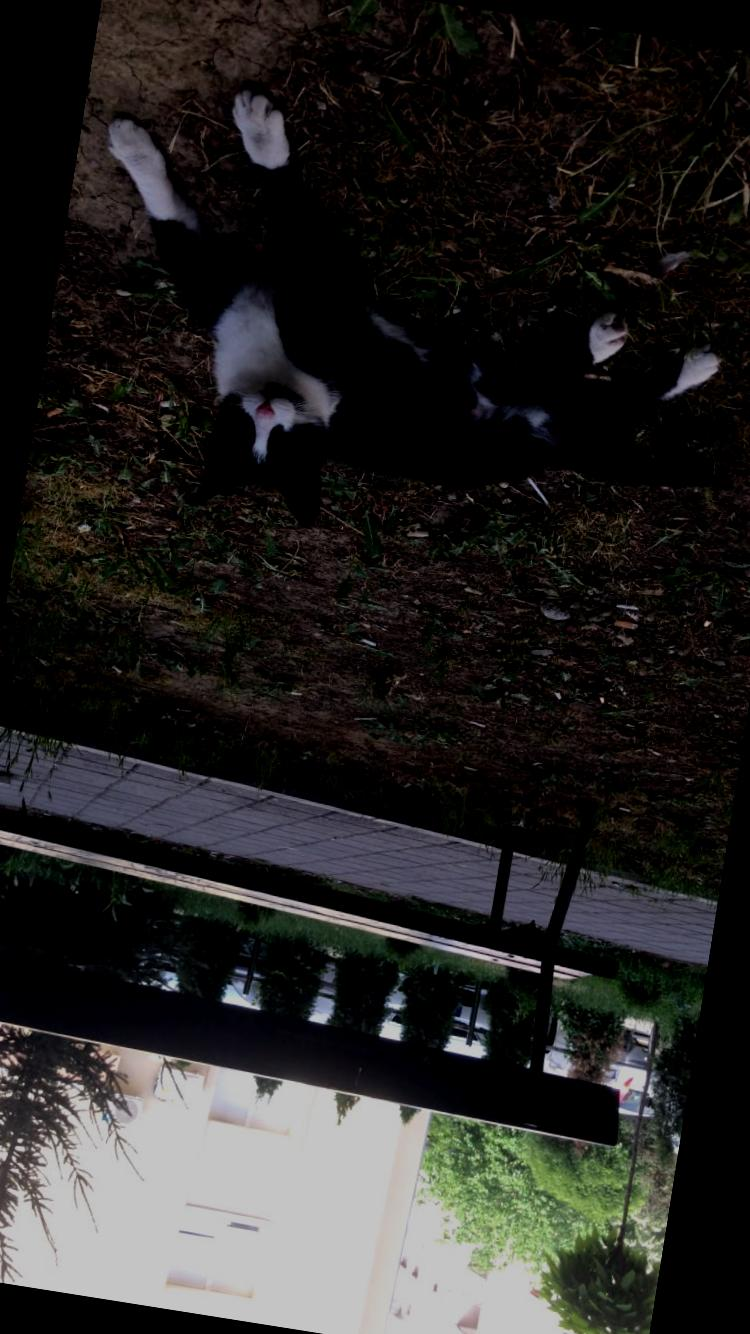macka: (50, 70, 750, 596)
